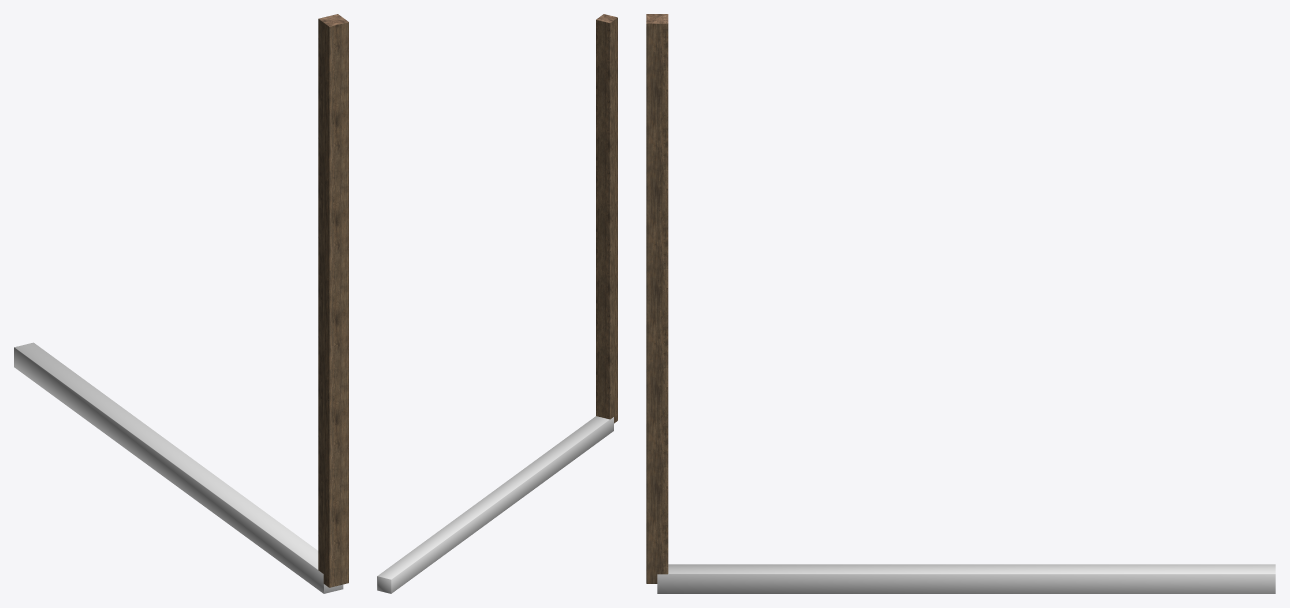
The model's file is SM_Beam_B.fbx.
3 renders of one model, left to right at view 1: azimuth 30°, elevation 25°; view 2: azimuth 150°, elevation 25°; view 3: azimuth 270°, elevation 25°, orthographic. The views are drawn at different scales.
Parts seen in each view (by area): view 1: SM_Beam_B, SM_Beam_B_ConvexHulls; view 2: SM_Beam_B, SM_Beam_B_ConvexHulls; view 3: SM_Beam_B_ConvexHulls, SM_Beam_B.
Boxes of the visible parts, <box> form: SM_Beam_B: <box>318,14,348,587</box>; SM_Beam_B_ConvexHulls: <box>14,342,343,593</box>; SM_Beam_B: <box>596,14,617,423</box>; SM_Beam_B_ConvexHulls: <box>377,416,613,593</box>; SM_Beam_B_ConvexHulls: <box>657,564,1275,593</box>; SM_Beam_B: <box>646,14,668,583</box>.
Size of the model in its own units: 0.4187 by 11.5 by 11.5.
